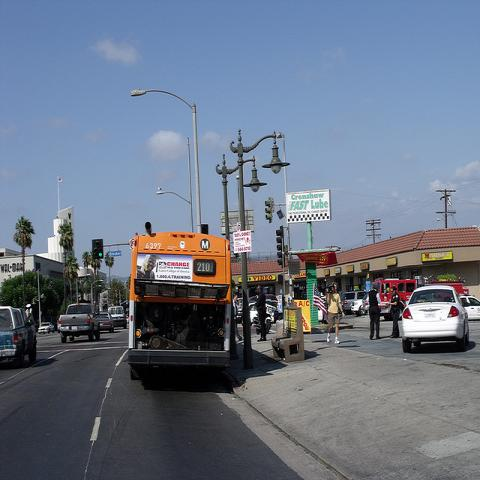bus: (125, 230, 236, 379)
car: (400, 287, 471, 359), (248, 303, 276, 323), (340, 290, 366, 311), (460, 294, 479, 321), (350, 293, 370, 316), (108, 306, 127, 330), (97, 314, 111, 332), (38, 321, 54, 335), (126, 315, 129, 324)
truck: (125, 233, 230, 383), (372, 277, 470, 322), (0, 305, 38, 368), (58, 302, 100, 343)
